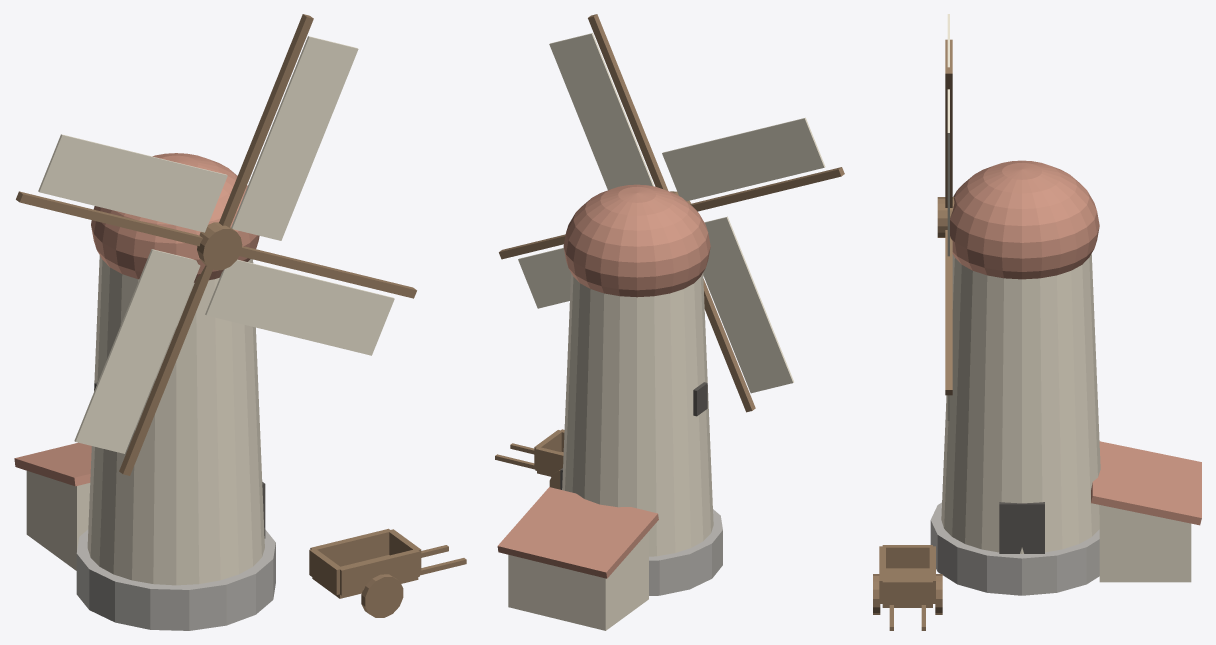
File: windmill.glb
The picture shows the model from 3 angles, left to right: view 1: azimuth 30°, elevation 25°; view 2: azimuth 150°, elevation 25°; view 3: azimuth 270°, elevation 25°; orthographic projection. The views are drawn at different scales.
Visible parts, largest first — view 1: Windmill; view 2: Windmill; view 3: Windmill.
Part boxes in pixels (<box>): Windmill: <box>14,14,466,630</box>; Windmill: <box>495,14,844,630</box>; Windmill: <box>873,14,1201,630</box>.
Bounding box in the file's own units: 9.57 × 12.77 × 7.19.
